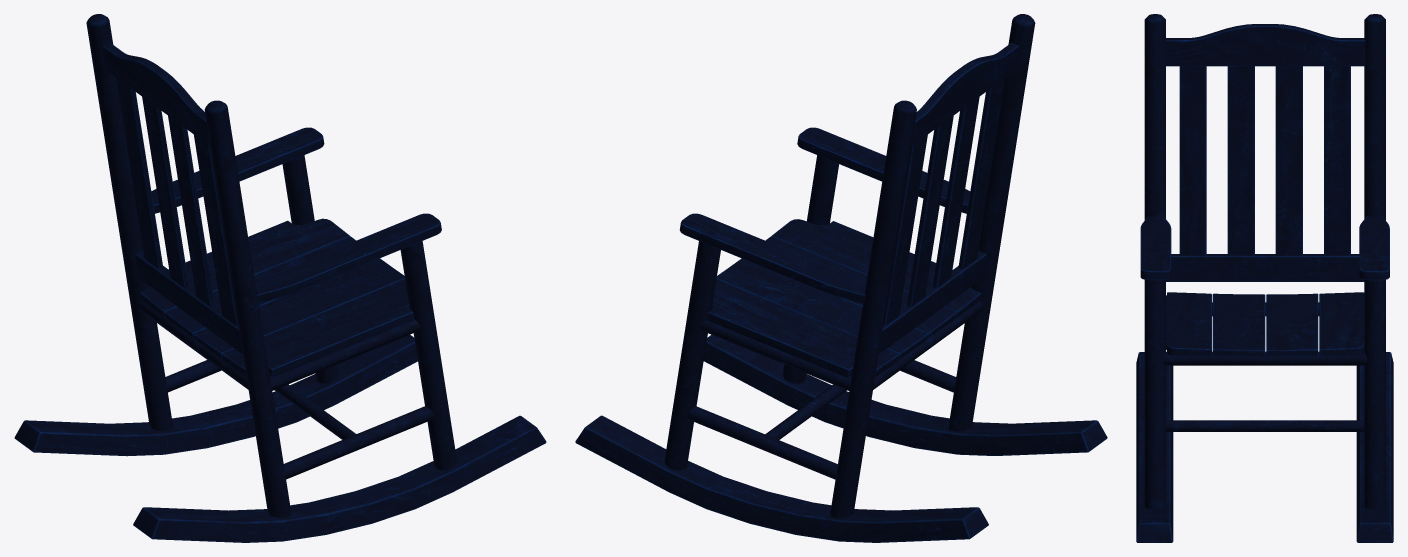
The model's file is rockingchair.glb.
The picture shows the model from 3 angles, left to right: view 1: azimuth 30°, elevation 25°; view 2: azimuth 150°, elevation 25°; view 3: azimuth 270°, elevation 25°; orthographic projection. The views are drawn at different scales.
Parts seen in each view (by area): view 1: Chair; view 2: Chair; view 3: Chair.
Boxes of the visible parts, x1,y1,x2,y2 form: Chair: [14, 14, 546, 542]; Chair: [575, 14, 1107, 542]; Chair: [1136, 14, 1393, 542].
Size of the model in its own units: 78.57 by 85.39 by 47.7.
Materials: 1 (1 with a texture image).
